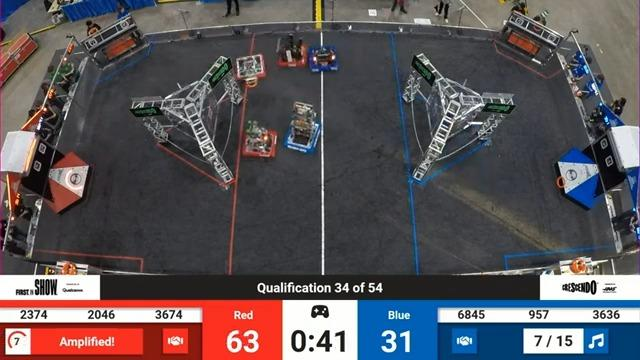robot: (279, 90, 324, 161), (442, 79, 485, 134), (267, 29, 312, 77), (227, 49, 277, 90), (236, 119, 279, 161), (307, 38, 347, 77)
